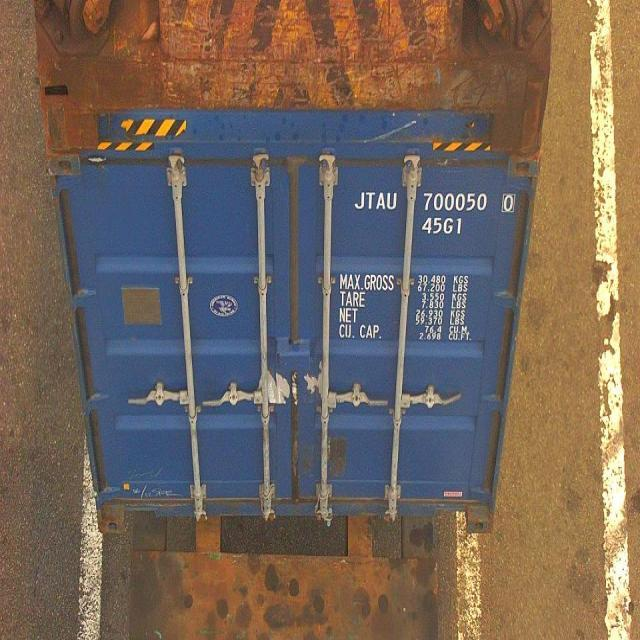ISO: (422, 216, 462, 234)
container_number: (360, 191, 518, 213)
